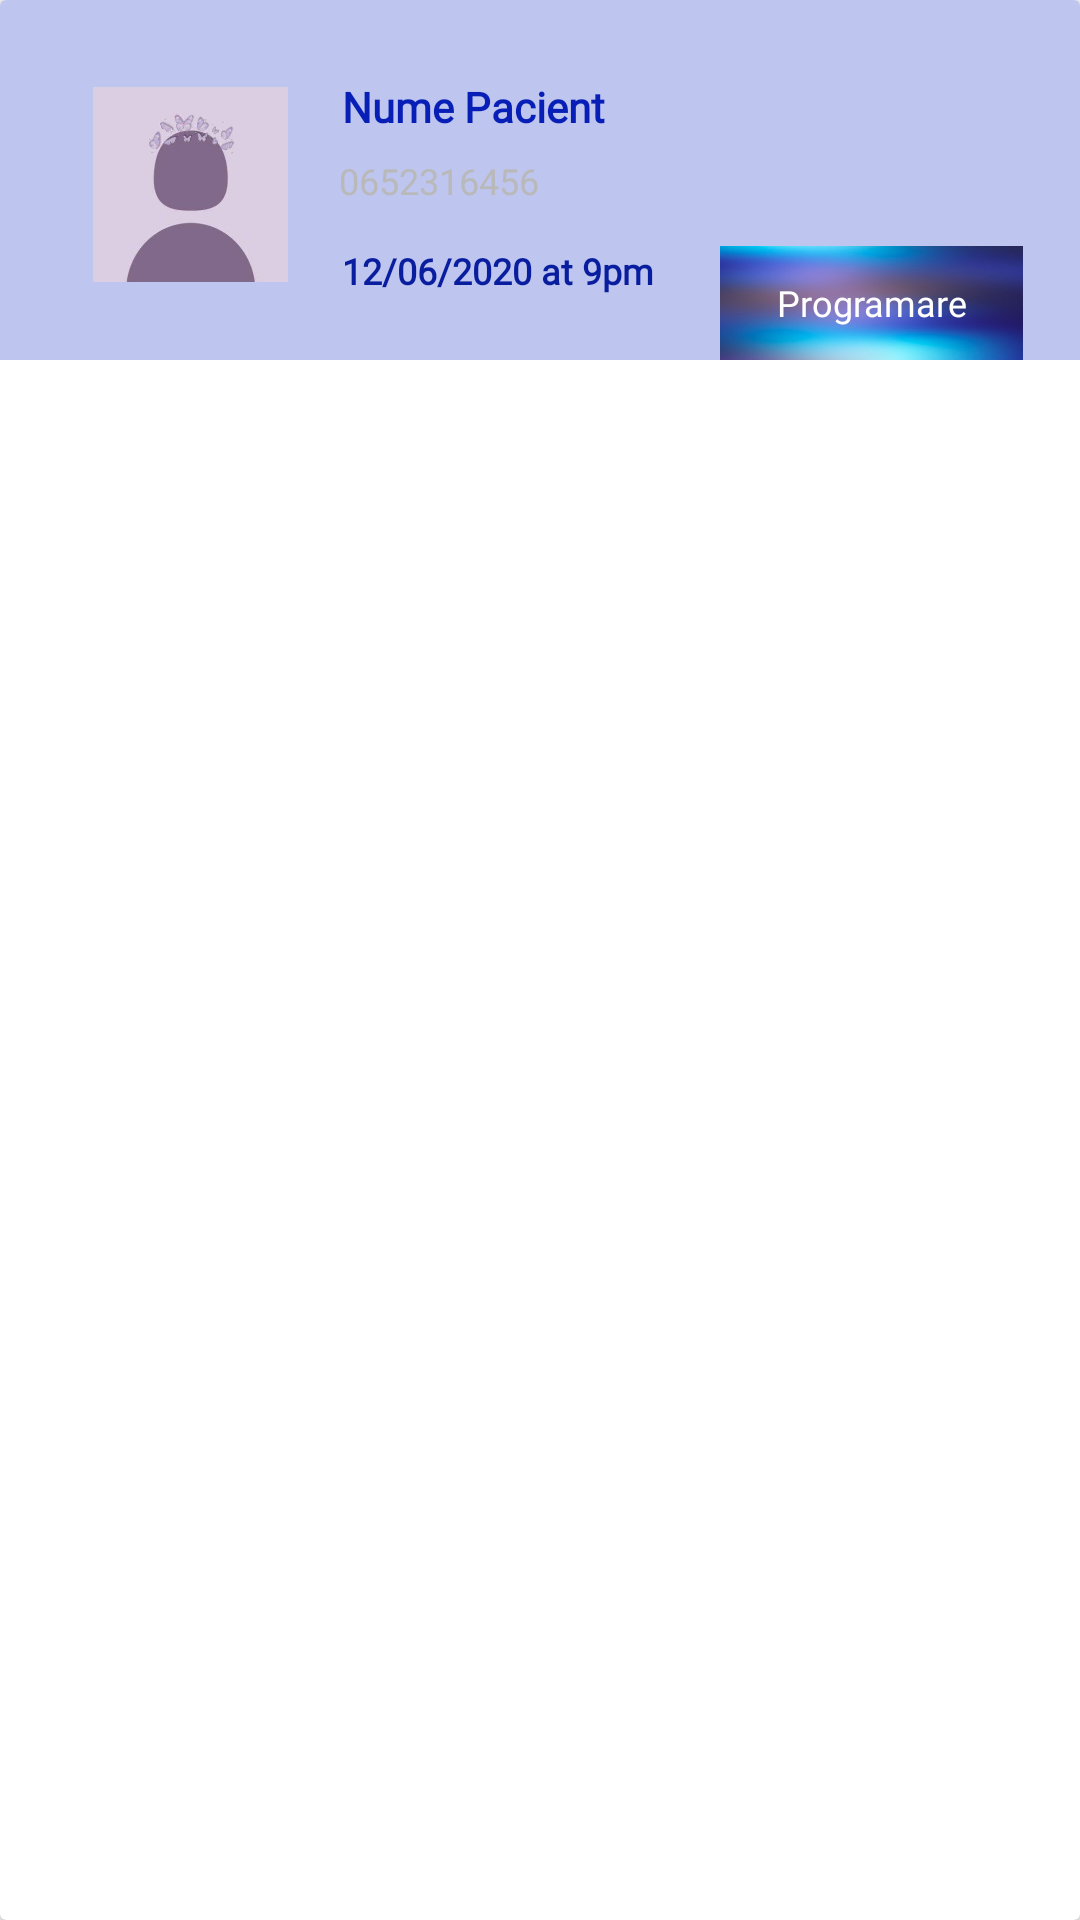

Icon click points for this 1080px x 1920px phone screenshot, format point (x, y):
userprofile: point (190, 184)
